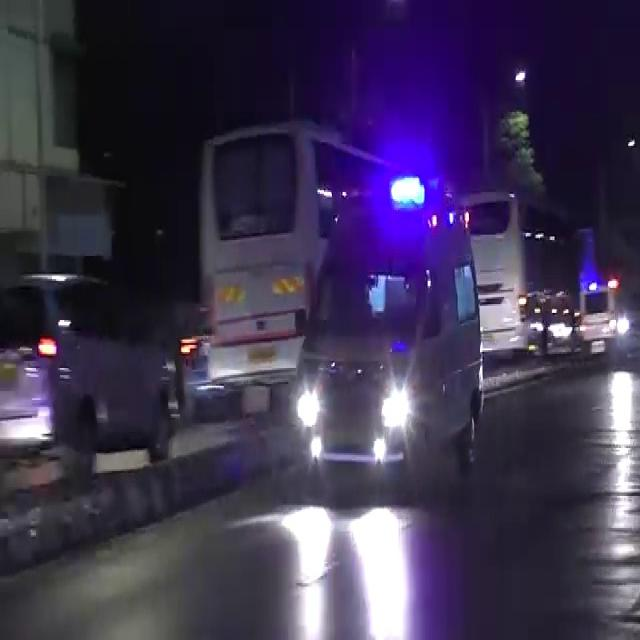ambulance: (302, 182, 487, 440)
